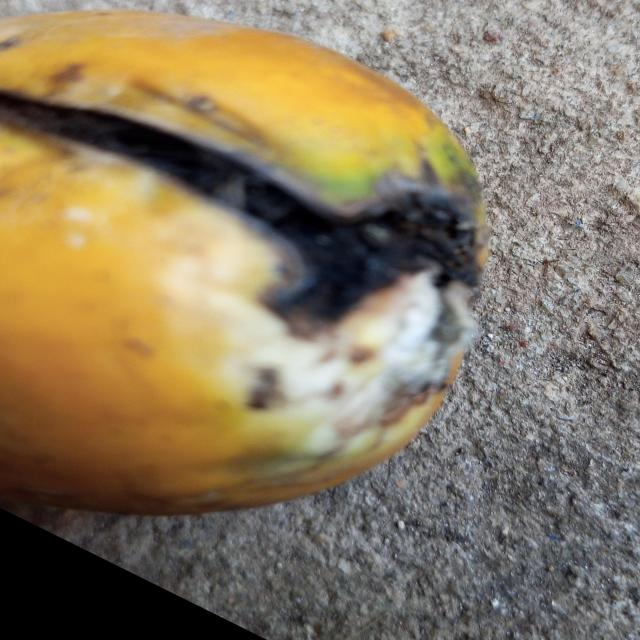damaged: (0, 9, 487, 520)
